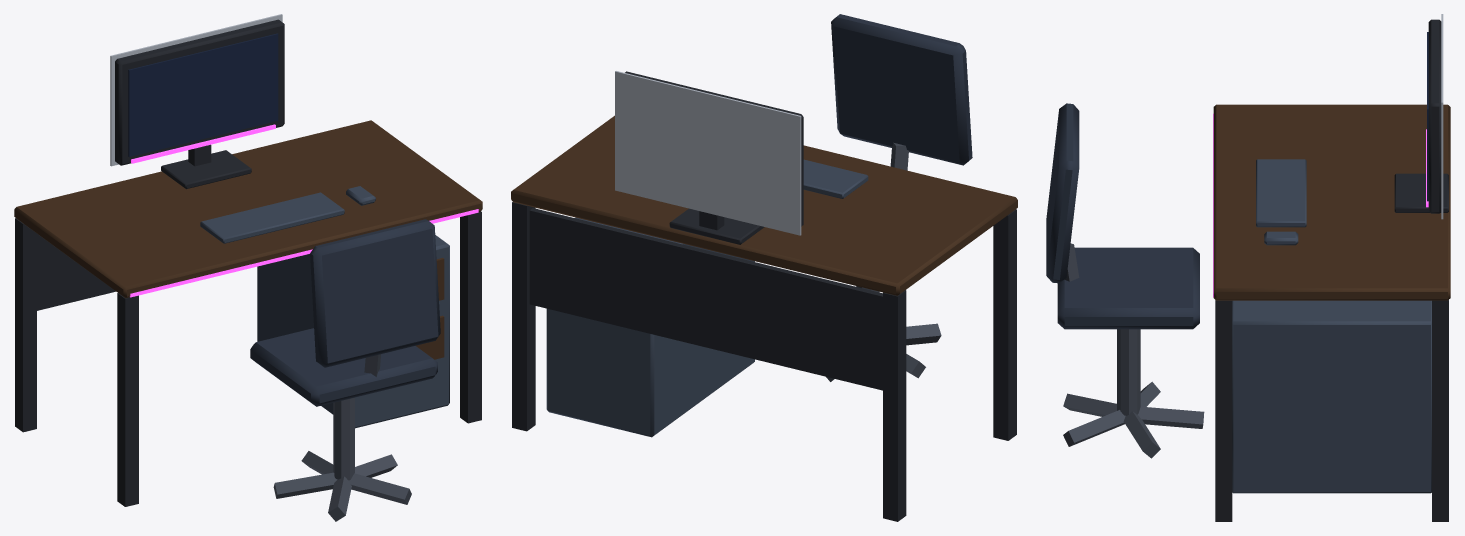
Rendered from workstation.glb.
The picture shows the model from 3 angles, left to right: view 1: azimuth 30°, elevation 25°; view 2: azimuth 150°, elevation 25°; view 3: azimuth 270°, elevation 25°; orthographic projection. The views are drawn at different scales.
Parts seen in each view (by area): view 1: body, screen; view 2: body; view 3: body.
Part boxes in pixels (x1,y1,x2,y2): body: (14,14,482,521); screen: (128,33,278,156); body: (511,14,1017,521); body: (1046,14,1450,521).
Size of the model in its own units: 1.3 by 1.21 by 1.19.
